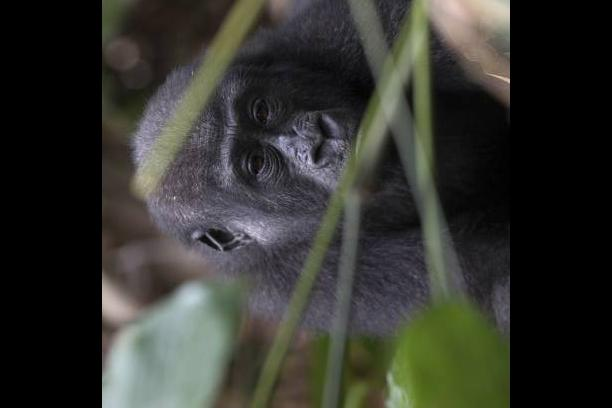gorille_Autres: (123, 9, 498, 304)
